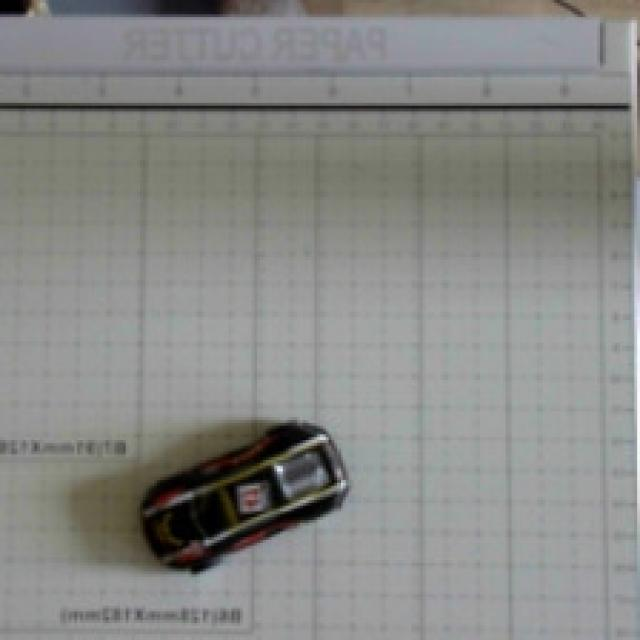Red Car: (104, 418, 390, 581)
